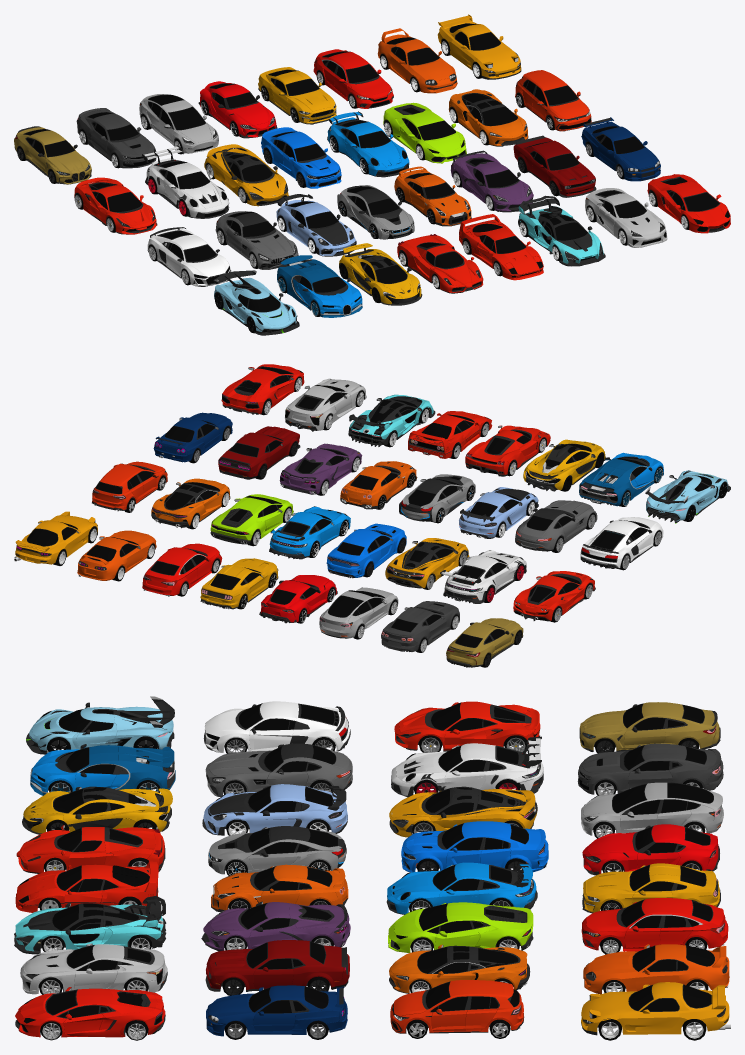
Rendered from npccar.glb.
3 views of the same model, one above another, from view 1: azimuth 30°, elevation 25°; view 2: azimuth 150°, elevation 25°; view 3: azimuth 270°, elevation 25° (orthographic). The views are drawn at different scales.
Visible parts, largest first — view 1: Plane012, Plane017, Plane031, Plane011, Plane, Plane018, Plane004, Plane046, Plane010, Plane014, Plane032, Plane013 (+20 smaller); view 2: Plane, Plane017, Plane002, Plane032, Plane012, Plane020, Plane035, Plane025, Plane004, Plane031, Plane013, Plane010 (+20 smaller); view 3: Plane012, Plane014, Plane035, Plane017, Plane046, Plane002, Plane025, Plane036, Plane029, Plane004, Plane032, Plane013 (+20 smaller).
Boxes of the visible parts, x1,y1,x2,y2 form: Plane012: (518, 195, 605, 266); Plane017: (142, 145, 229, 218); Plane031: (213, 270, 299, 335); Plane011: (459, 214, 543, 280); Plane: (277, 259, 362, 317); Plane018: (327, 111, 409, 177); Plane004: (383, 102, 466, 163); Plane046: (437, 14, 521, 79); Plane010: (397, 234, 483, 293); Plane014: (647, 174, 730, 233); Plane032: (261, 127, 341, 188); Plane013: (585, 188, 667, 247); Plane: (579, 452, 663, 506); Plane017: (440, 550, 526, 603); Plane002: (580, 517, 663, 568); Plane032: (326, 523, 406, 578); Plane012: (348, 394, 435, 446); Plane020: (515, 500, 597, 551); Plane035: (142, 543, 222, 596); Plane025: (218, 426, 300, 479); Plane004: (210, 494, 293, 544); Plane031: (645, 470, 730, 523); Plane013: (285, 378, 366, 431); Plane010: (465, 425, 550, 476); Plane012: (14, 896, 166, 954); Plane014: (15, 987, 165, 1037); Plane035: (581, 898, 728, 951); Plane017: (391, 736, 543, 797); Plane046: (581, 982, 730, 1035); Plane002: (203, 701, 350, 752); Plane025: (205, 940, 349, 991); Plane036: (390, 980, 524, 1033); Plane029: (206, 985, 347, 1036); Plane004: (388, 902, 533, 952); Plane032: (401, 821, 548, 872); Plane013: (20, 943, 167, 994).
Size of the model in its own units: 1.14 by 0.072 by 1.1.
